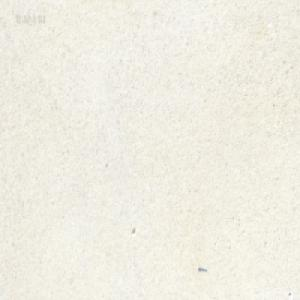Nail: (197, 265, 207, 271)
